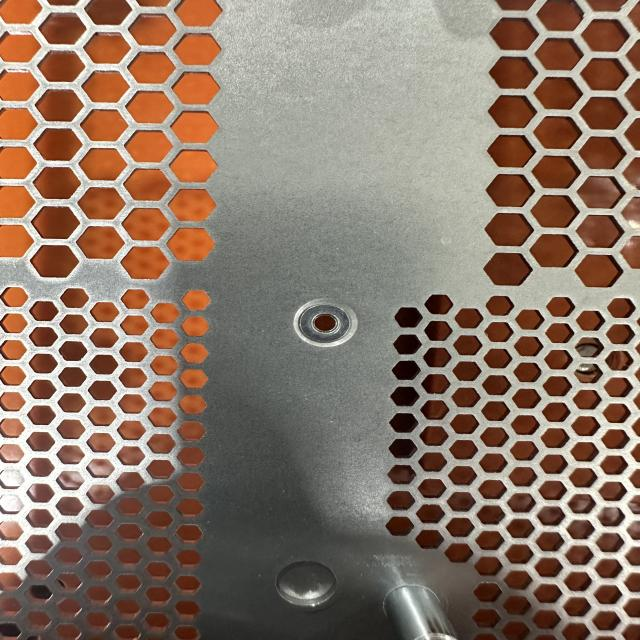Missing screw: (284, 292, 368, 357)
